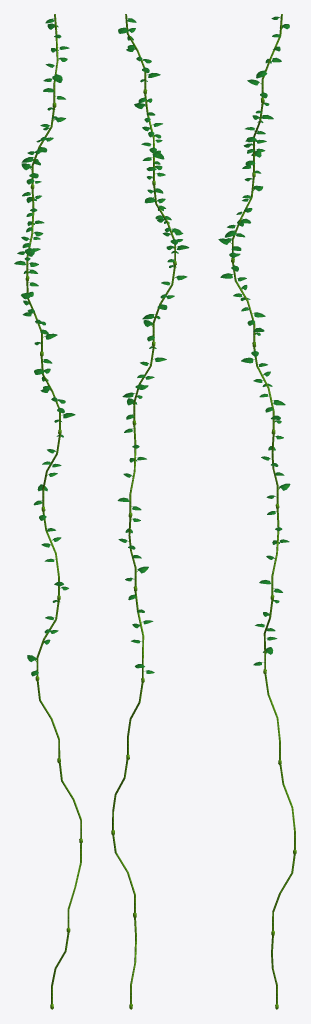
Rendered from Plant_NEW.fbx.
3 renders of one model, left to right at view 1: azimuth 30°, elevation 25°; view 2: azimuth 150°, elevation 25°; view 3: azimuth 330°, elevation 25°, orthographic.
Visible parts, largest first — view 1: Icosphere.015; view 2: Icosphere.015; view 3: Icosphere.015.
Boxes of the visible parts, box(x1,y1,x2,y2) form: Icosphere.015: box(14, 14, 82, 1009); Icosphere.015: box(111, 14, 189, 1009); Icosphere.015: box(218, 14, 296, 1009).
Size of the model in its own units: 1112 by 14493 by 733.
2 materials, 2 textured.
